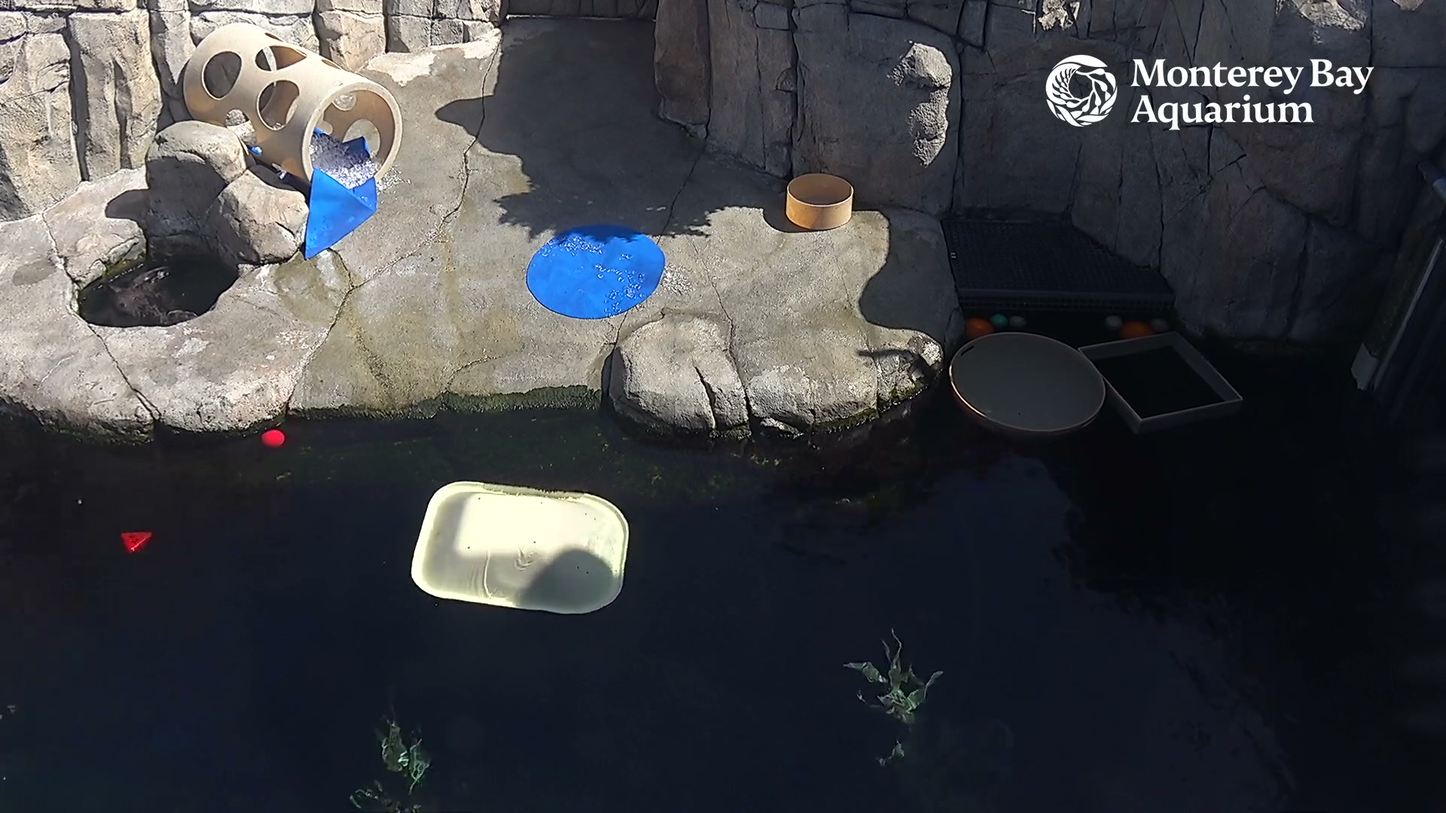Southern Sea Otter: (97, 247, 204, 334)
